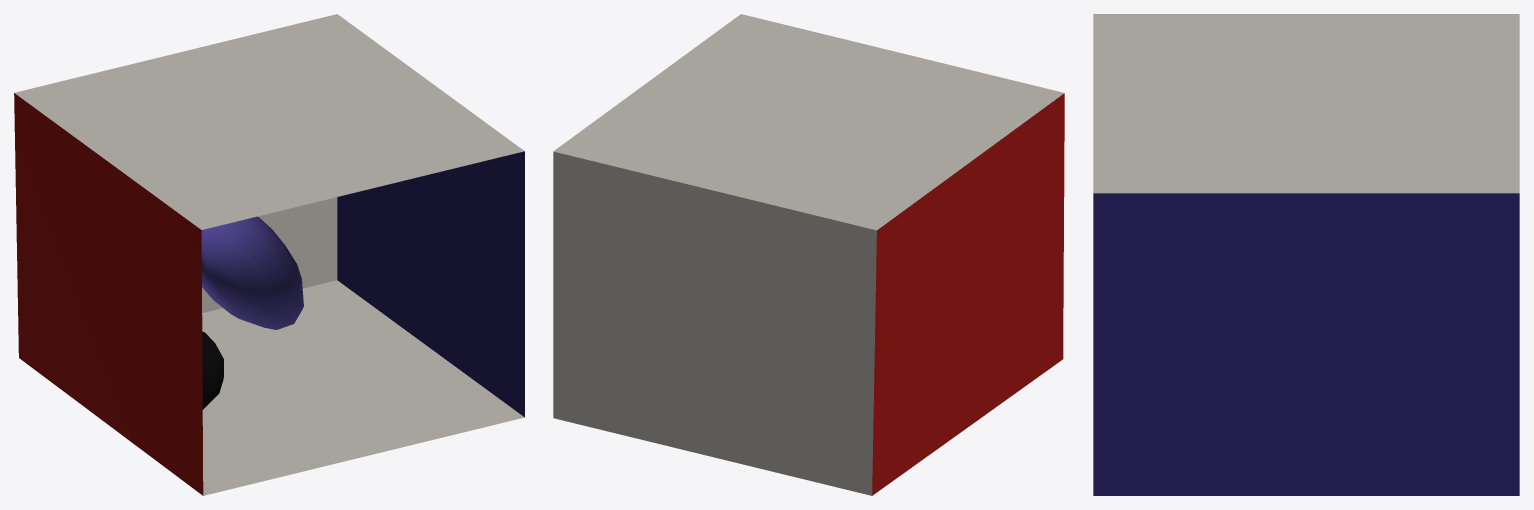
The model's file is CornellBox-Ellipsoid-244.obj.
The picture shows the model from 3 angles, left to right: view 1: azimuth 30°, elevation 25°; view 2: azimuth 150°, elevation 25°; view 3: azimuth 270°, elevation 25°; orthographic projection. The views are drawn at different scales.
Parts seen in each view (by area): view 1: ceiling, leftWall, floor, rightWall, leftSphere, backWall, rightSphere; view 2: backWall, ceiling, leftWall; view 3: rightWall, ceiling.
Boxes of the visible parts, x1,y1,x2,y2 form: ceiling: (14, 14, 524, 229); leftWall: (14, 93, 203, 495); floor: (202, 280, 524, 495); rightWall: (337, 151, 524, 417); leftSphere: (201, 216, 303, 329); backWall: (202, 197, 337, 312); rightSphere: (202, 331, 223, 409); backWall: (553, 151, 876, 495); ceiling: (553, 14, 1064, 230); leftWall: (872, 93, 1064, 495); rightWall: (1093, 193, 1519, 495); ceiling: (1093, 14, 1519, 193).
Size of the model in its own units: 2.02 by 1.59 by 2.03.
